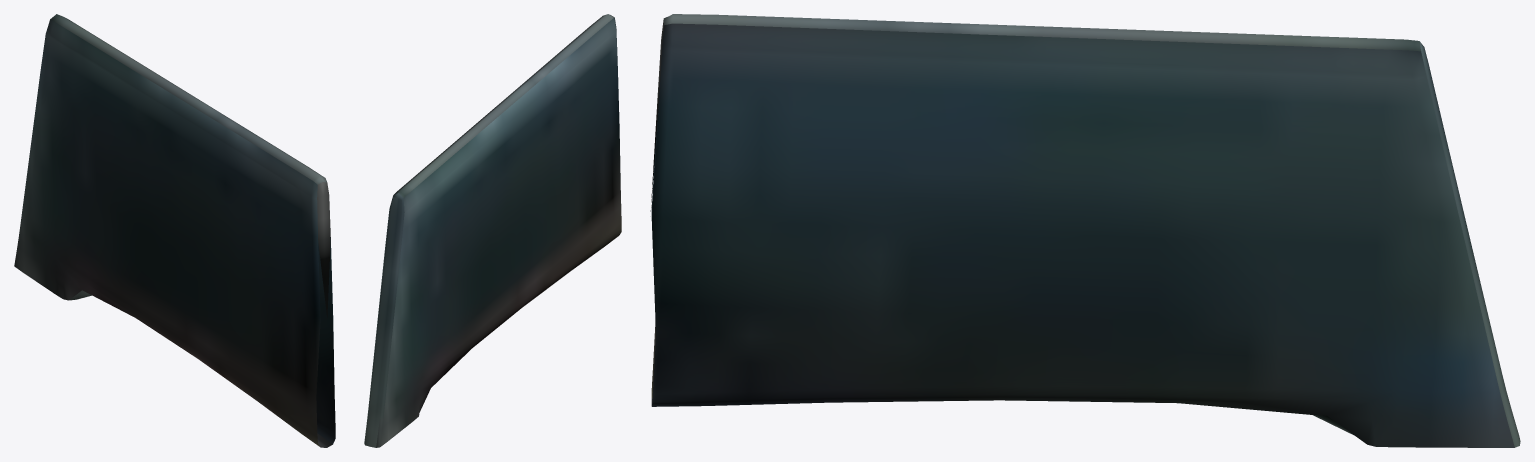
File: cartridge.glb
The picture shows the model from 3 angles, left to right: view 1: azimuth 30°, elevation 25°; view 2: azimuth 150°, elevation 25°; view 3: azimuth 270°, elevation 25°; orthographic projection. The views are drawn at different scales.
Parts seen in each view (by area): view 1: Model.001_Baked_Model.001_baked_0.011; view 2: Model.001_Baked_Model.001_baked_0.011; view 3: Model.001_Baked_Model.001_baked_0.011.
Part boxes in pixels (x1,y1,x2,y2): Model.001_Baked_Model.001_baked_0.011: (14, 14, 335, 447); Model.001_Baked_Model.001_baked_0.011: (364, 14, 621, 447); Model.001_Baked_Model.001_baked_0.011: (650, 14, 1520, 447).
Bounding box in the file's own units: 3.32 × 33.59 × 61.06.
Materials: 1 (1 with a texture image).
